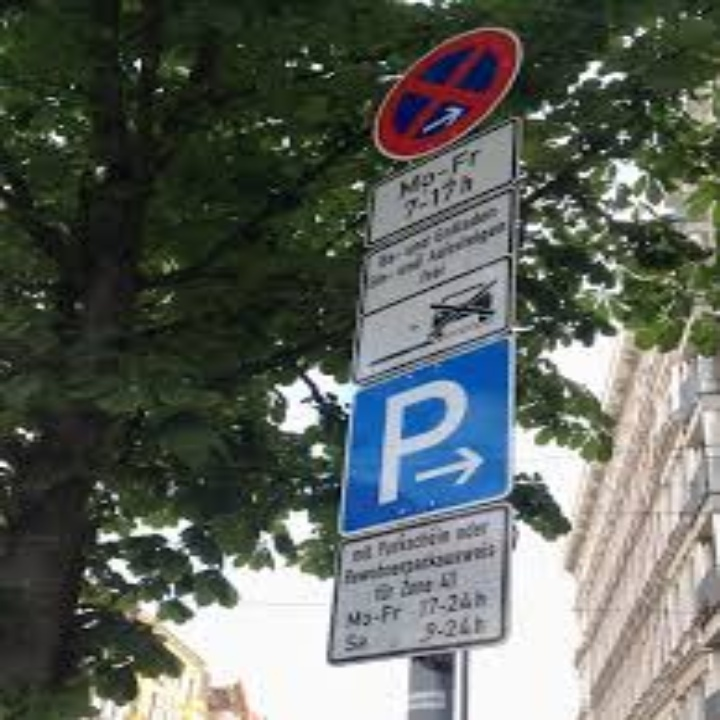parking: (375, 371, 474, 516)
